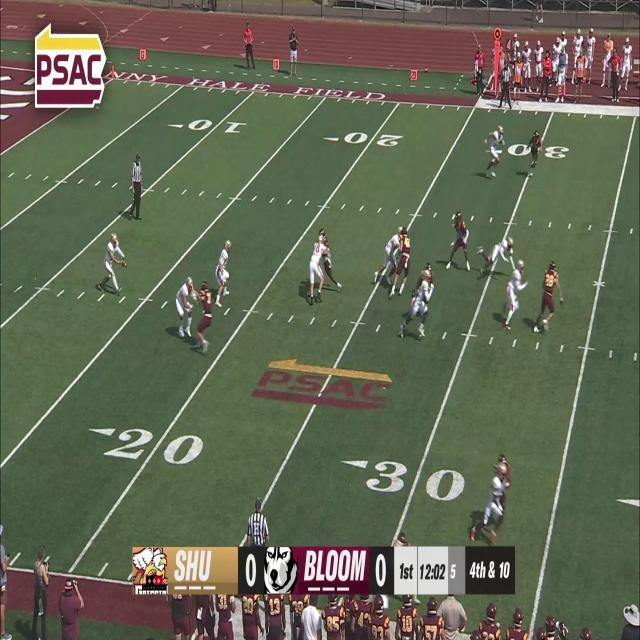football: (121, 259, 127, 268)
